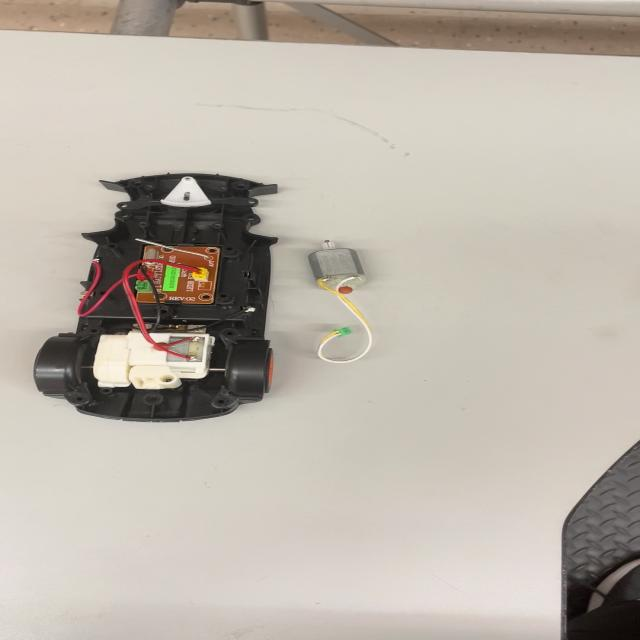Chassis: (34, 172, 285, 425)
motor: (299, 233, 372, 305)
